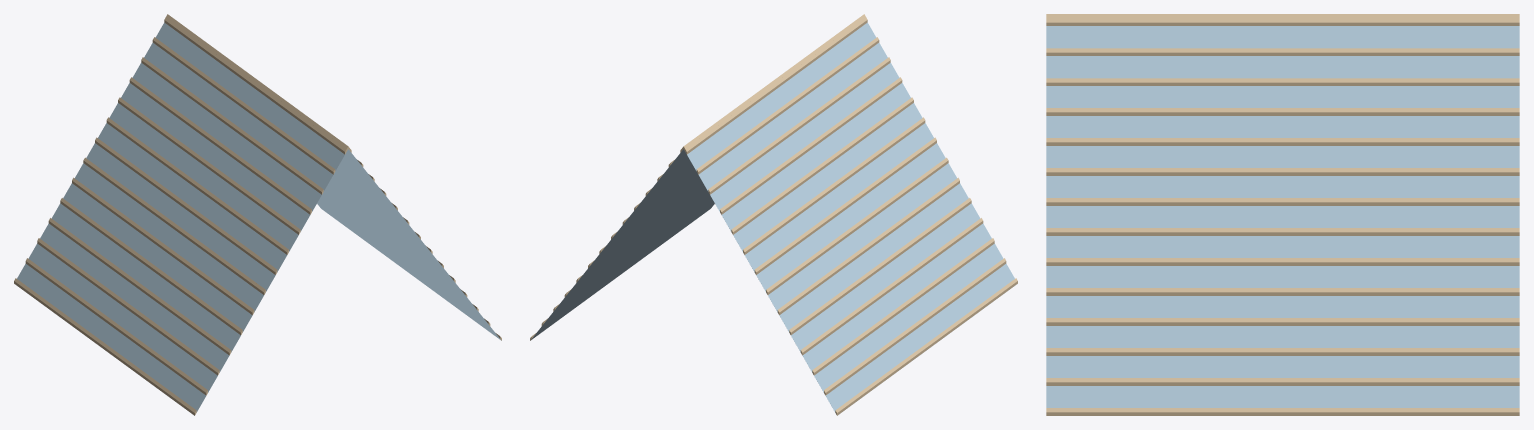
Rendered from stage-5.glb.
3 views of the same model, side by side, from view 1: azimuth 30°, elevation 25°; view 2: azimuth 150°, elevation 25°; view 3: azimuth 270°, elevation 25° (orthographic). The views are drawn at different scales.
Visible parts, largest first — view 1: Geom3D (×2); view 2: Geom3D (×2); view 3: Geom3D (×2).
Part boxes in pixels (x1,y1,x2,y2): Geom3D (×2): (14,14,501,415); Geom3D (×2): (530,14,1017,415); Geom3D (×2): (1046,14,1519,415).
Bounding box in the file's own units: 5.26 × 3.8 × 5.36.
